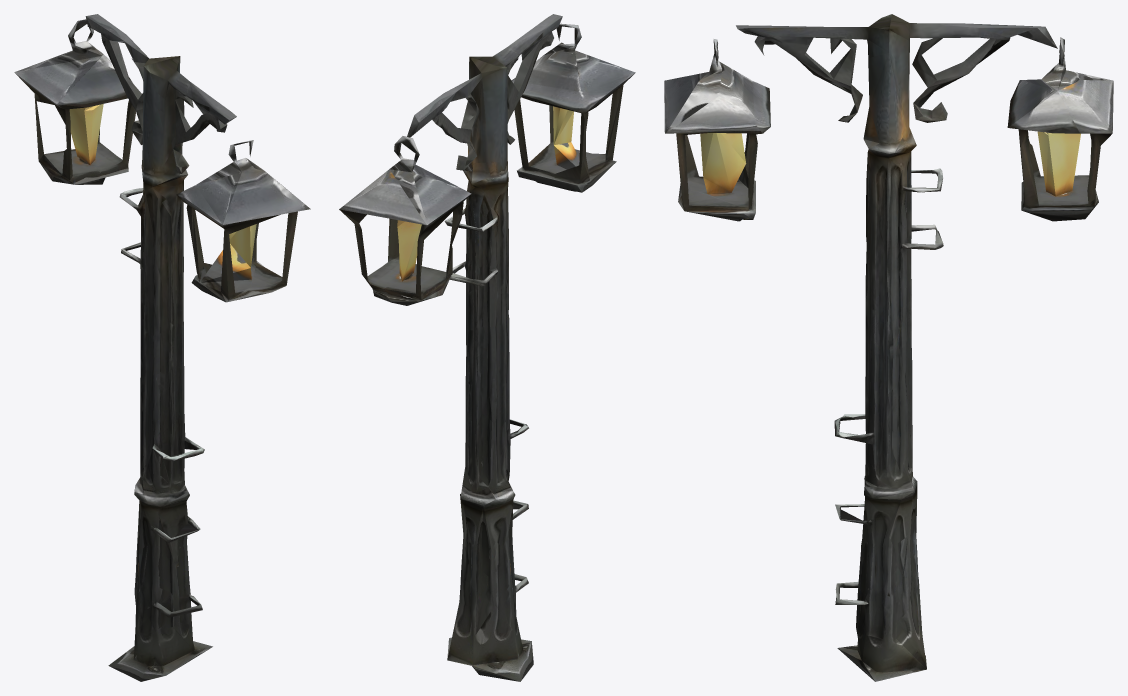
The model's file is poste.glb.
3 views of the same model, side by side, from view 1: azimuth 30°, elevation 25°; view 2: azimuth 150°, elevation 25°; view 3: azimuth 270°, elevation 25° (orthographic). The views are drawn at different scales.
Parts seen in each view (by area): view 1: poste; view 2: poste; view 3: poste.
Boxes of the visible parts, box(x1,y1,x2,y2) form: poste: box(14, 14, 310, 681); poste: box(339, 14, 635, 681); poste: box(664, 14, 1113, 681).
Bounding box in the file's own units: 0.6186 × 3.98 × 2.49.
1 material, 1 textured.
